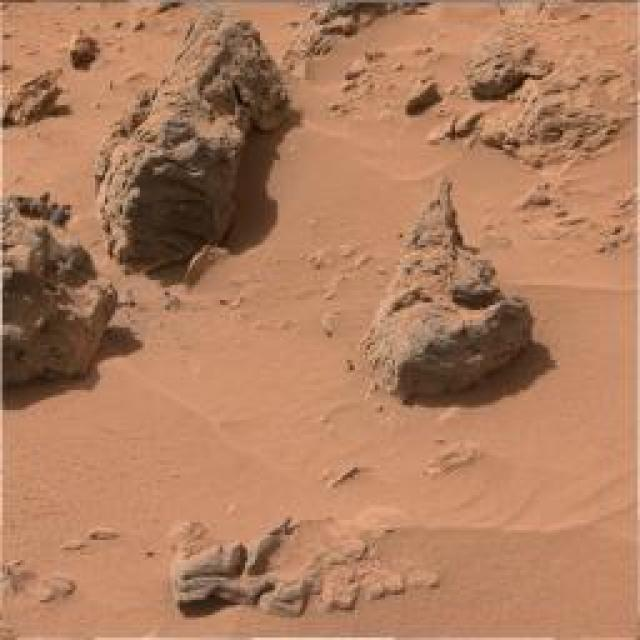rock: (98, 3, 298, 276), (367, 176, 538, 406), (0, 188, 124, 392), (168, 515, 350, 621), (444, 68, 632, 170), (275, 0, 443, 68), (460, 22, 557, 95), (3, 61, 72, 132), (68, 29, 102, 66), (407, 78, 439, 112)
